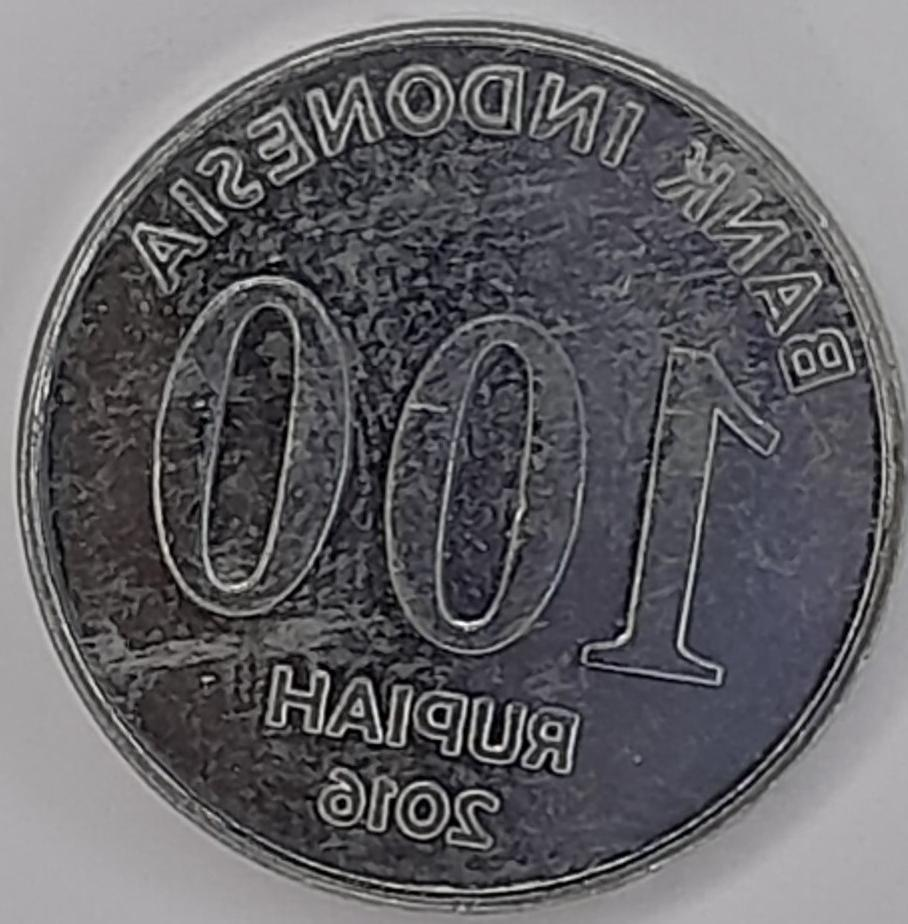coin_100_e2016: (10, 13, 907, 914)
